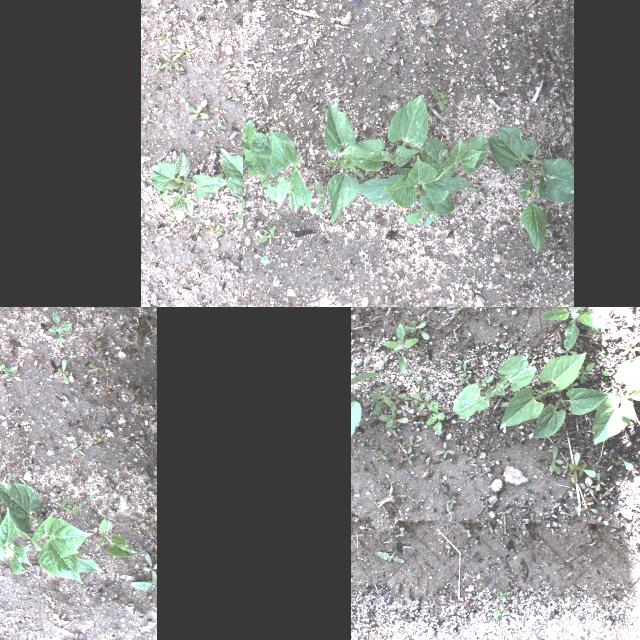crop: (344, 90, 490, 224), (488, 124, 572, 256), (0, 480, 100, 583), (499, 350, 586, 428), (243, 119, 312, 215), (145, 150, 231, 222), (452, 354, 536, 418), (318, 98, 354, 225), (592, 352, 640, 444), (532, 387, 608, 437), (0, 497, 32, 575), (350, 371, 378, 437), (96, 516, 136, 556)
weed: (541, 307, 597, 349), (382, 323, 422, 373), (58, 469, 100, 513), (151, 43, 197, 71), (378, 401, 408, 431), (48, 311, 72, 347), (182, 95, 210, 121), (554, 336, 578, 362), (426, 400, 444, 434), (370, 382, 390, 412), (428, 82, 448, 111), (465, 180, 489, 202), (410, 390, 434, 412), (256, 220, 276, 246), (156, 220, 177, 244), (544, 446, 562, 474), (405, 318, 429, 339), (574, 362, 596, 384), (0, 353, 15, 383), (119, 386, 145, 402), (54, 357, 70, 383), (312, 180, 322, 220), (125, 327, 147, 345), (569, 463, 595, 477), (143, 551, 155, 581), (618, 338, 638, 356), (593, 326, 611, 346), (376, 293, 401, 307), (126, 579, 154, 591), (376, 551, 404, 563), (87, 358, 107, 374), (435, 442, 455, 458), (399, 320, 425, 332), (255, 252, 272, 270), (388, 389, 407, 403), (222, 64, 238, 80), (422, 26, 438, 42), (70, 418, 86, 434), (92, 428, 108, 444), (402, 390, 418, 406), (104, 476, 118, 494), (132, 312, 150, 326), (493, 608, 507, 626), (406, 436, 420, 454), (564, 376, 578, 394), (50, 612, 70, 624), (578, 502, 598, 514), (572, 452, 580, 482), (316, 232, 334, 245), (93, 340, 109, 354), (456, 362, 472, 376), (618, 456, 634, 470), (72, 439, 84, 457), (416, 370, 434, 382), (601, 369, 621, 379), (564, 586, 578, 600), (560, 461, 576, 473), (130, 522, 148, 532), (631, 339, 640, 359), (466, 291, 480, 303), (402, 451, 414, 465), (243, 286, 254, 301), (100, 353, 116, 363), (444, 502, 452, 522), (391, 429, 403, 441), (583, 481, 595, 493), (596, 472, 604, 490), (458, 373, 470, 385), (412, 313, 424, 325), (279, 300, 299, 307), (544, 508, 558, 518), (374, 450, 388, 460), (394, 439, 404, 453), (481, 376, 494, 386), (121, 346, 137, 354), (370, 390, 378, 406), (61, 394, 70, 408), (478, 408, 487, 422), (391, 421, 402, 432), (215, 0, 230, 8), (601, 613, 611, 625), (454, 360, 466, 370), (448, 494, 456, 508), (507, 337, 517, 348), (84, 339, 94, 349), (90, 331, 100, 341), (482, 500, 492, 510), (490, 413, 500, 423), (409, 329, 421, 337), (243, 180, 246, 208), (633, 530, 640, 542), (75, 632, 85, 640), (498, 590, 506, 600), (456, 444, 464, 454), (490, 444, 500, 452), (552, 439, 560, 449), (444, 384, 452, 394), (628, 460, 638, 468), (80, 350, 92, 356), (426, 319, 434, 326), (565, 556, 573, 562), (496, 518, 502, 524), (400, 494, 406, 500), (545, 462, 551, 468), (616, 462, 624, 466), (638, 532, 640, 544), (616, 544, 622, 548), (417, 498, 423, 502), (419, 382, 425, 386), (490, 460, 494, 464), (504, 344, 508, 348), (447, 490, 449, 496), (546, 519, 550, 521)
